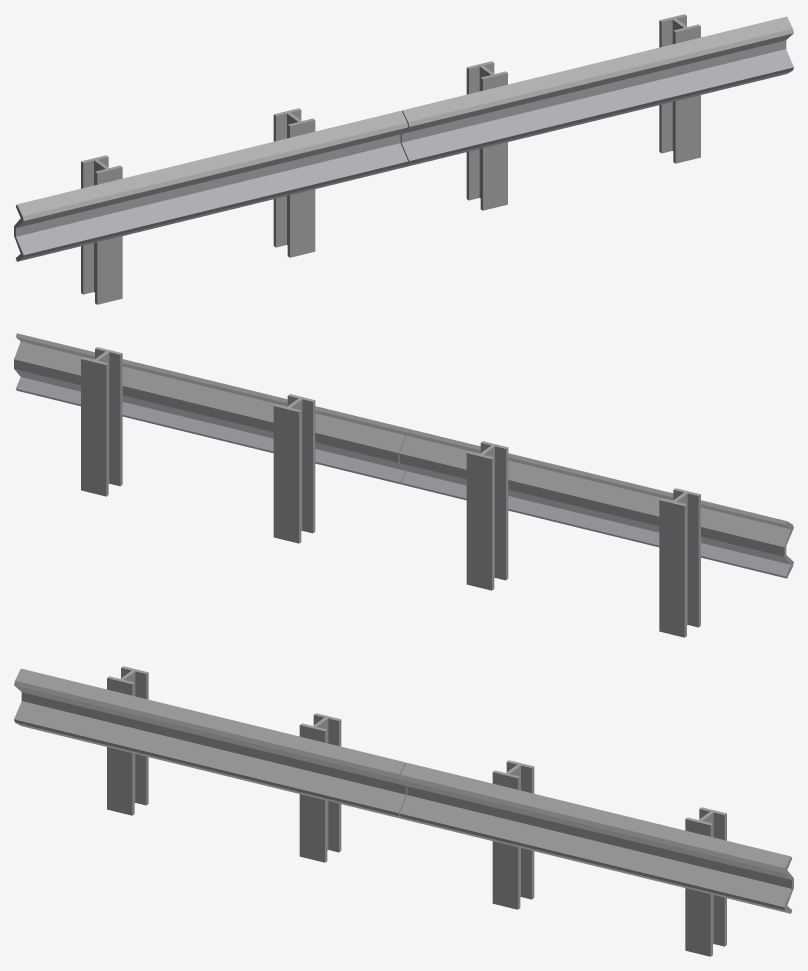
File: GuardRail.fbx
3 views of the same model, one above another, from view 1: azimuth 30°, elevation 25°; view 2: azimuth 150°, elevation 25°; view 3: azimuth 330°, elevation 25° (orthographic).
Parts seen in each view (by area): view 1: SM_GuardRail_01.mo; view 2: SM_GuardRail_01.mo; view 3: SM_GuardRail_01.mo.
Part boxes in pixels (x1=…): SM_GuardRail_01.mo: x1=14, y1=14, x2=793, y2=304; SM_GuardRail_01.mo: x1=14, y1=333, x2=793, y2=637; SM_GuardRail_01.mo: x1=14, y1=666, x2=793, y2=956.
Size of the model in its own units: 399 by 65.2 by 23.39.
